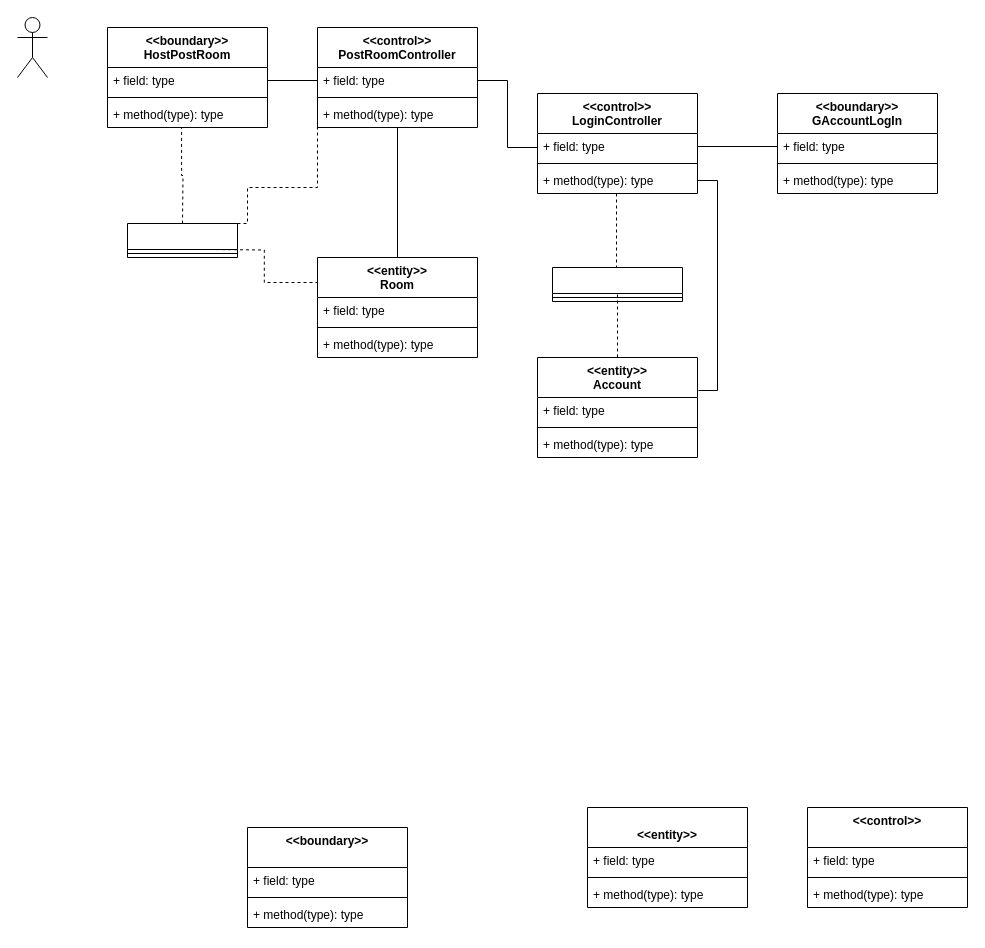
This 985x948 diagram has some shape labels left out. The box of each missing label's shape, as (x1, y1, x2, y2) in pixels:
Host: (16, 16, 48, 78)
HostBean: (552, 266, 682, 302)
RoomBean: (126, 222, 238, 258)
